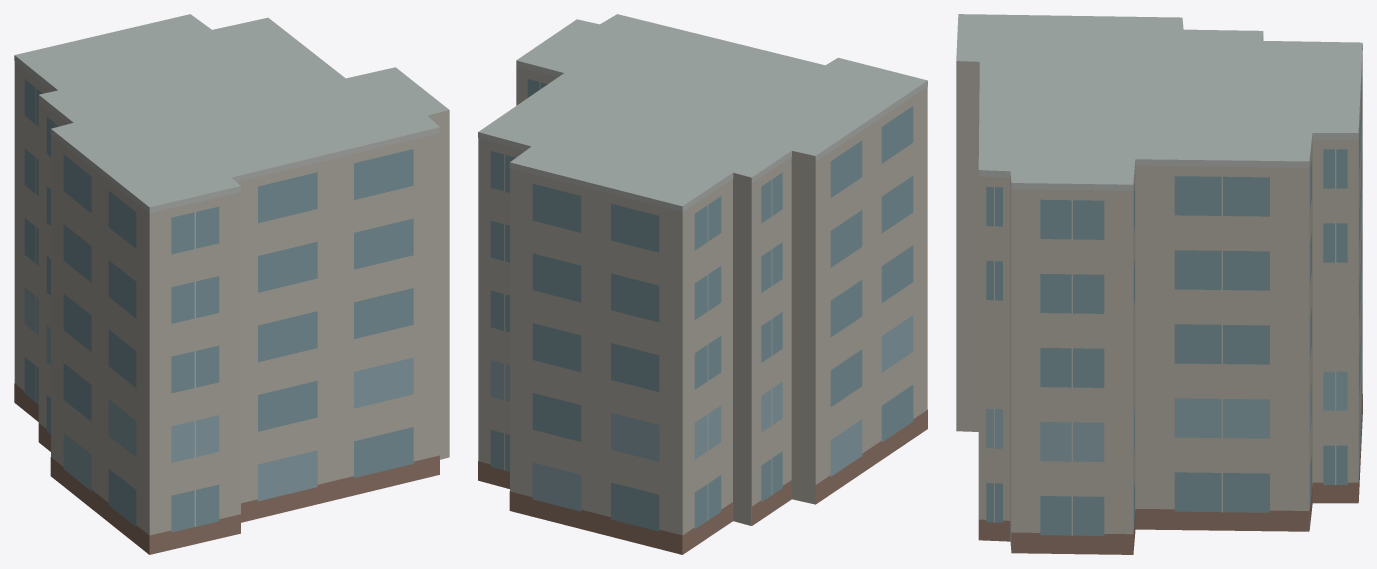
Rendered from survey-upis-32595247.glb.
3 renders of one model, left to right at view 1: azimuth 30°, elevation 25°; view 2: azimuth 150°, elevation 25°; view 3: azimuth 270°, elevation 25°, orthographic. The views are drawn at different scales.
Visible parts, largest first — view 1: survey-upis-32595247.tmp; view 2: survey-upis-32595247.tmp; view 3: survey-upis-32595247.tmp.
Part boxes in pixels (x1,y1,x2,y2): survey-upis-32595247.tmp: (14,14,449,554); survey-upis-32595247.tmp: (478,14,927,554); survey-upis-32595247.tmp: (956,14,1362,554).
Bounding box in the file's own units: 13.98 × 14.13 × 14.07.
